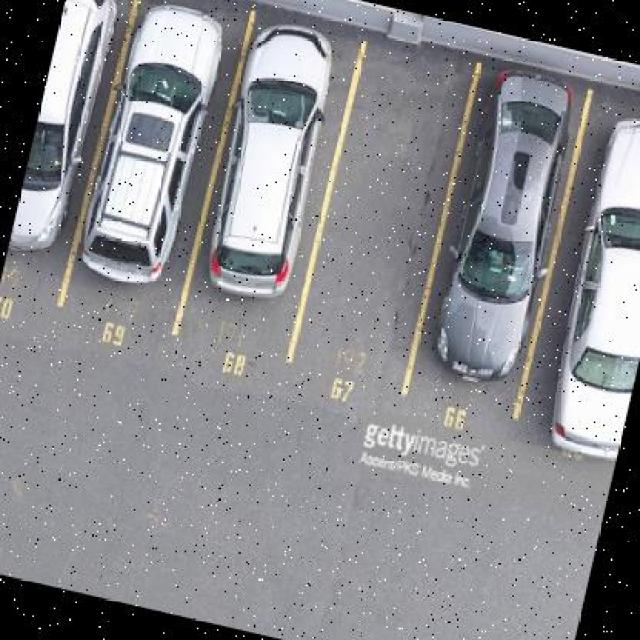Car: (424, 50, 598, 401), (186, 6, 360, 330), (77, 4, 243, 310), (519, 86, 640, 472), (4, 1, 120, 287)
Empty: (296, 46, 475, 397)
